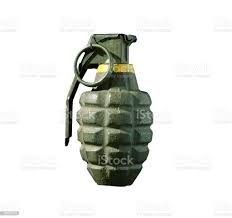bomb: (63, 32, 154, 186)
